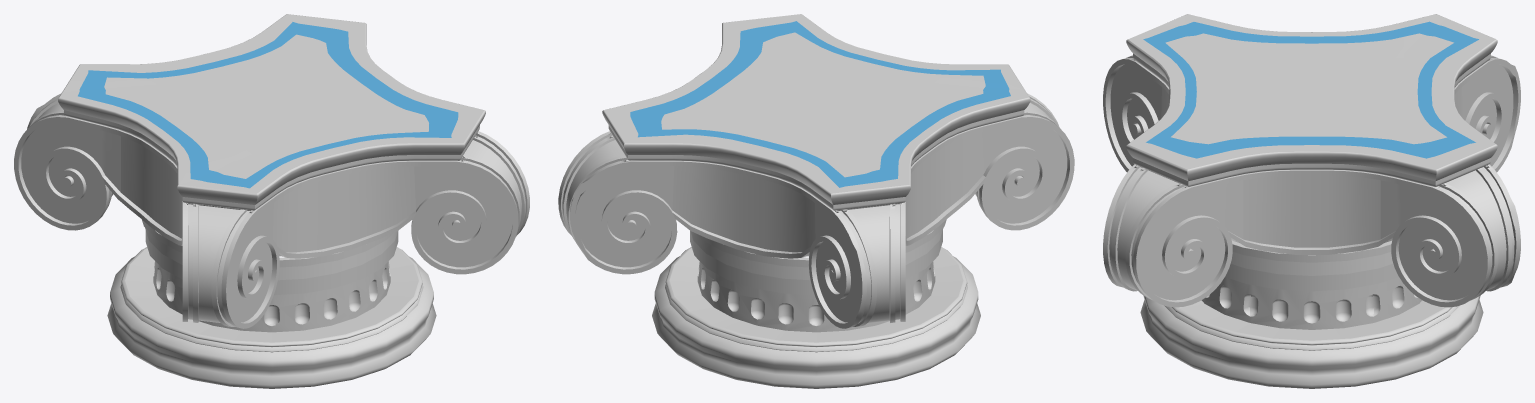
Rendered from podium_02.fbx.
The picture shows the model from 3 angles, left to right: view 1: azimuth 30°, elevation 25°; view 2: azimuth 150°, elevation 25°; view 3: azimuth 270°, elevation 25°; orthographic projection. The views are drawn at different scales.
Parts seen in each view (by area): view 1: podiumRemesh_03; view 2: podiumRemesh_03; view 3: podiumRemesh_03.
Boxes of the visible parts, x1=… form: podiumRemesh_03: x1=14, y1=14, x2=529, y2=388; podiumRemesh_03: x1=558, y1=14, x2=1074, y2=388; podiumRemesh_03: x1=1103, y1=14, x2=1520, y2=388.
Size of the model in its own units: 29.57 by 17.7 by 29.57.
